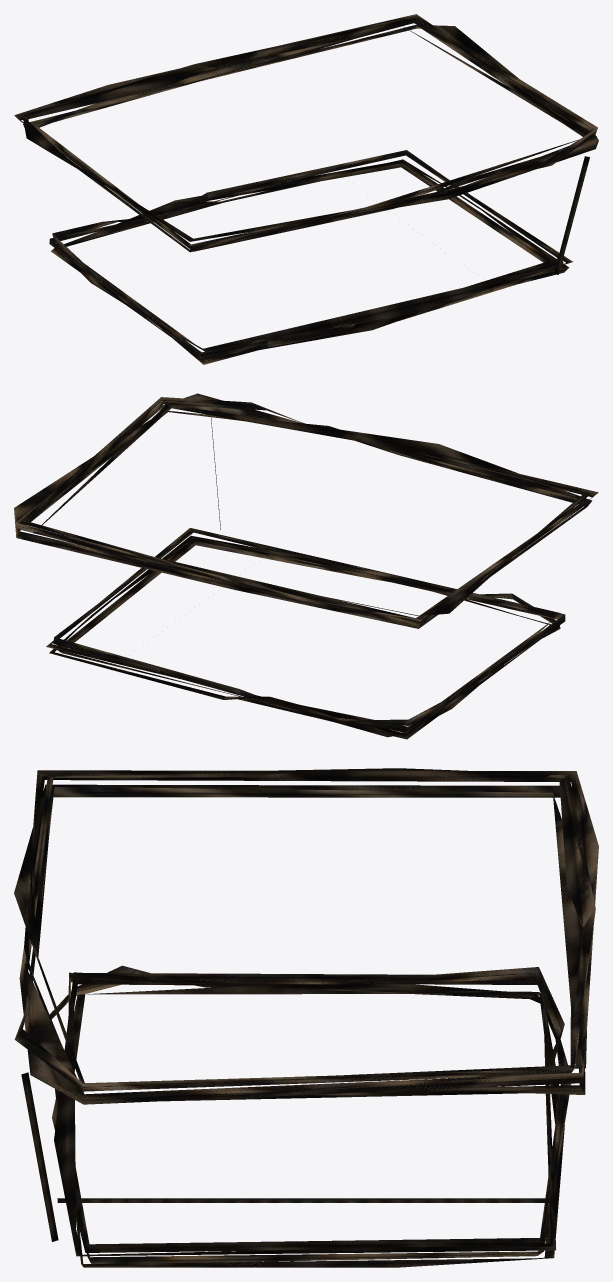
The model's file is wicker_basket_01.glb.
3 renders of one model, top to bottom at view 1: azimuth 30°, elevation 25°; view 2: azimuth 150°, elevation 25°; view 3: azimuth 270°, elevation 25°, orthographic. The views are drawn at different scales.
Parts seen in each view (by area): view 1: wicker_basket_01; view 2: wicker_basket_01; view 3: wicker_basket_01.
Boxes of the visible parts, bbox=[...] form: wicker_basket_01: bbox=[14, 14, 598, 364]; wicker_basket_01: bbox=[14, 393, 598, 739]; wicker_basket_01: bbox=[14, 768, 598, 1267].
Bounding box in the file's own units: 0.3765 × 0.1147 × 0.2878.
Materials: 1 (1 with a texture image).
